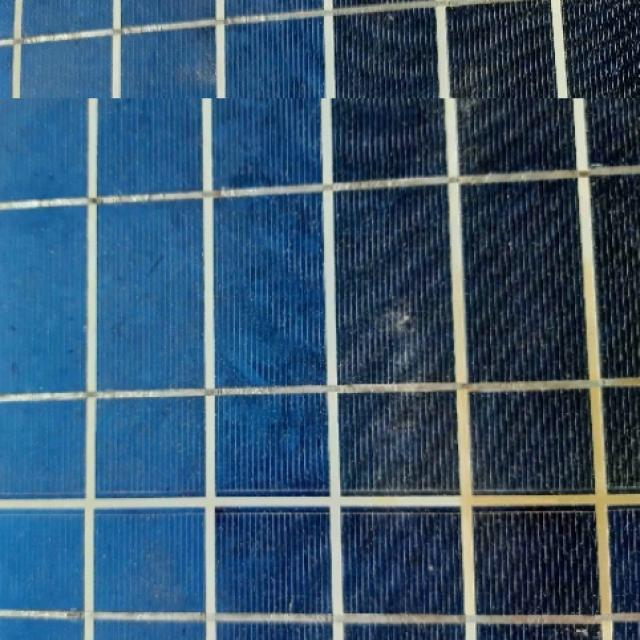Dirty: (0, 98, 640, 640)
